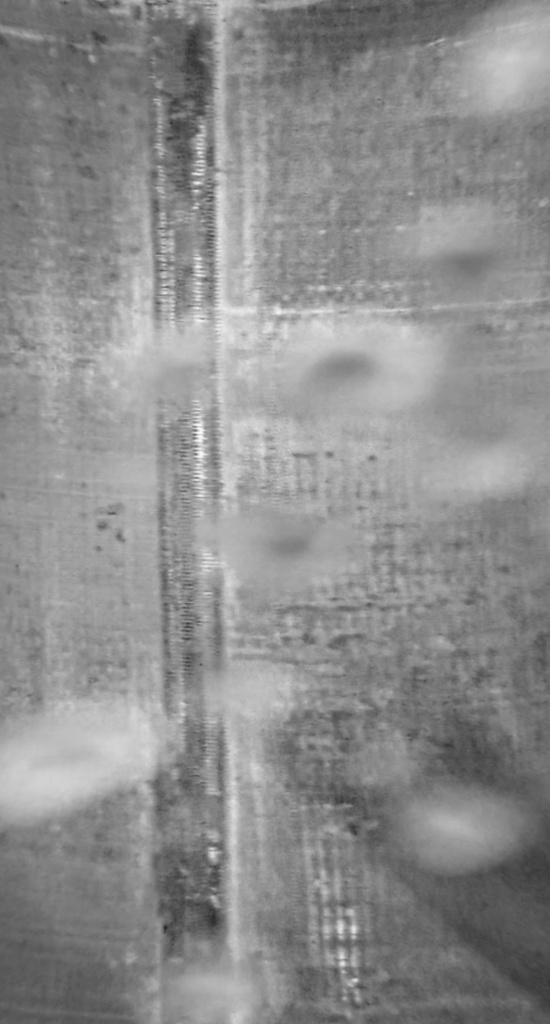splice: (153, 2, 250, 1024)
